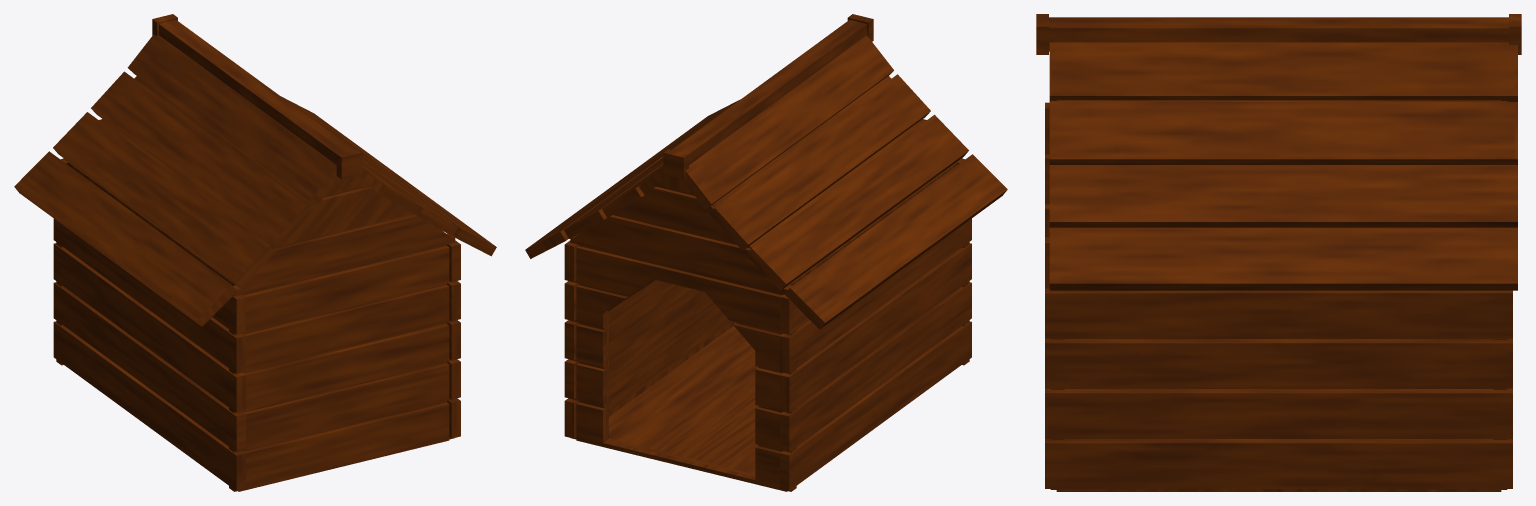
Rendered from DogHouse.fbx.
The picture shows the model from 3 angles, left to right: view 1: azimuth 30°, elevation 25°; view 2: azimuth 150°, elevation 25°; view 3: azimuth 270°, elevation 25°; orthographic projection. The views are drawn at different scales.
Parts seen in each view (by area): view 1: Cube; view 2: Cube; view 3: Cube.
Part boxes in pixels (bbox=[...]): Cube: bbox=[14, 14, 496, 491]; Cube: bbox=[525, 14, 1007, 491]; Cube: bbox=[1036, 14, 1521, 491].
Size of the model in its own units: 100 by 101 by 109.
